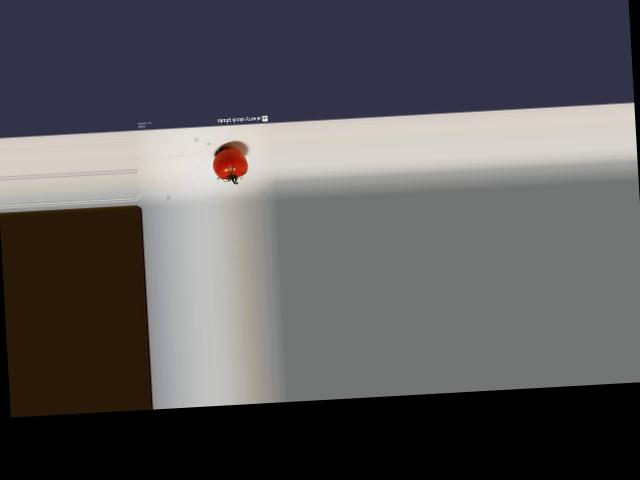tomato: (211, 146, 247, 179)
